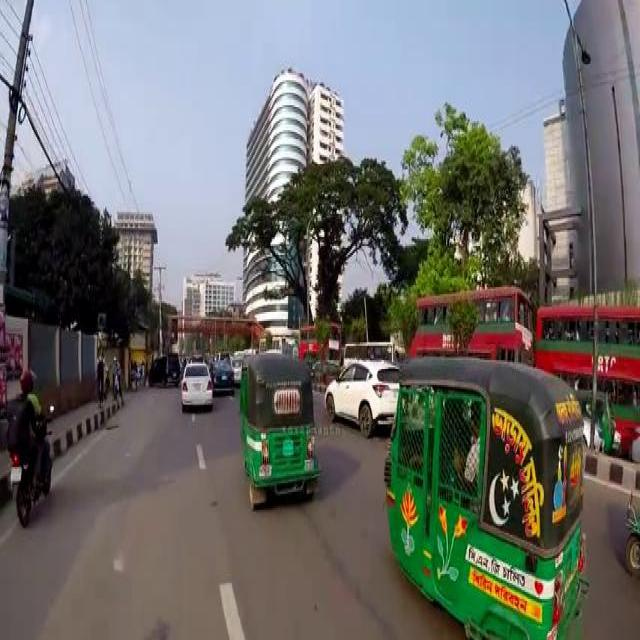bus: (534, 300, 638, 436), (398, 282, 534, 366), (297, 323, 339, 360), (342, 339, 398, 362)
car: (322, 358, 396, 432), (180, 361, 212, 404), (208, 358, 234, 390)
minivan: (146, 352, 180, 384)
motorbike: (10, 411, 50, 521)
three wheelers -CNG-: (384, 355, 590, 636), (238, 351, 318, 503)
